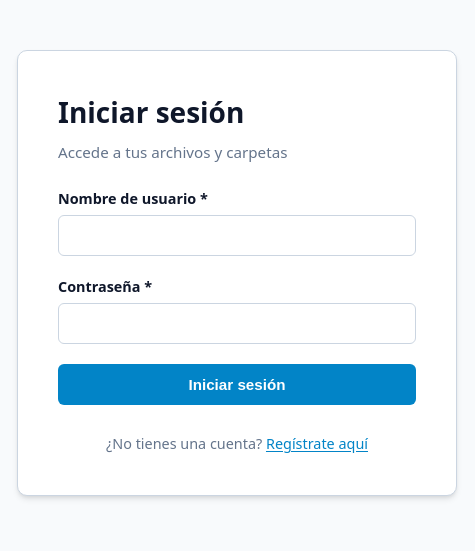
Frontend & Accesibilidad (a11y) - Módulo de Autenticación (O04) › Formulario de Login (LoginPage) › muestra mensaje genérico seguro y accesible (role="alert" y aria-live="polite") cuando el servidor rechaza credenciales
The width and height of the screenshot is (475, 551).
Type "usuario_valido" into the field labelled "Nombre de usuario *" at (237, 236), box [58,215,416,256]
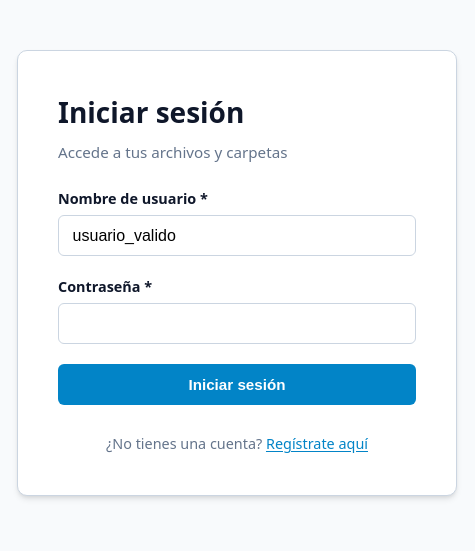
Type "password-valido-15-chars" into the password field labelled "Contraseña *" at (237, 324), box [58,303,416,344]
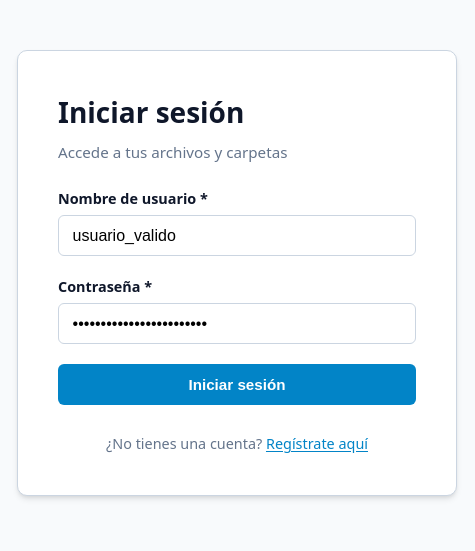
Click the button "Iniciar sesión" at (237, 385), box [58,364,416,405]
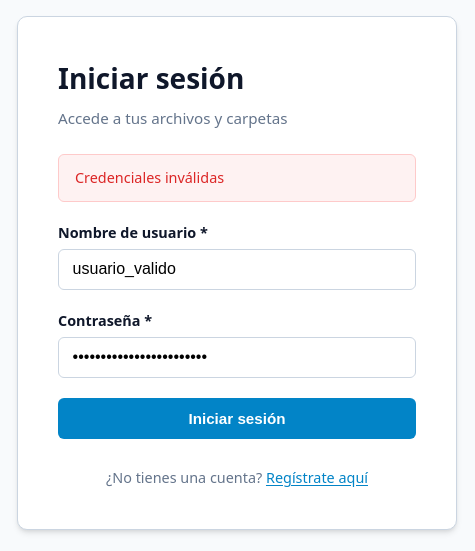
Result: the message "Credenciales inválidas" is shown at [58,154,416,202]
Result: the message reads "Credenciales inválidas" at [75,168,224,187]
